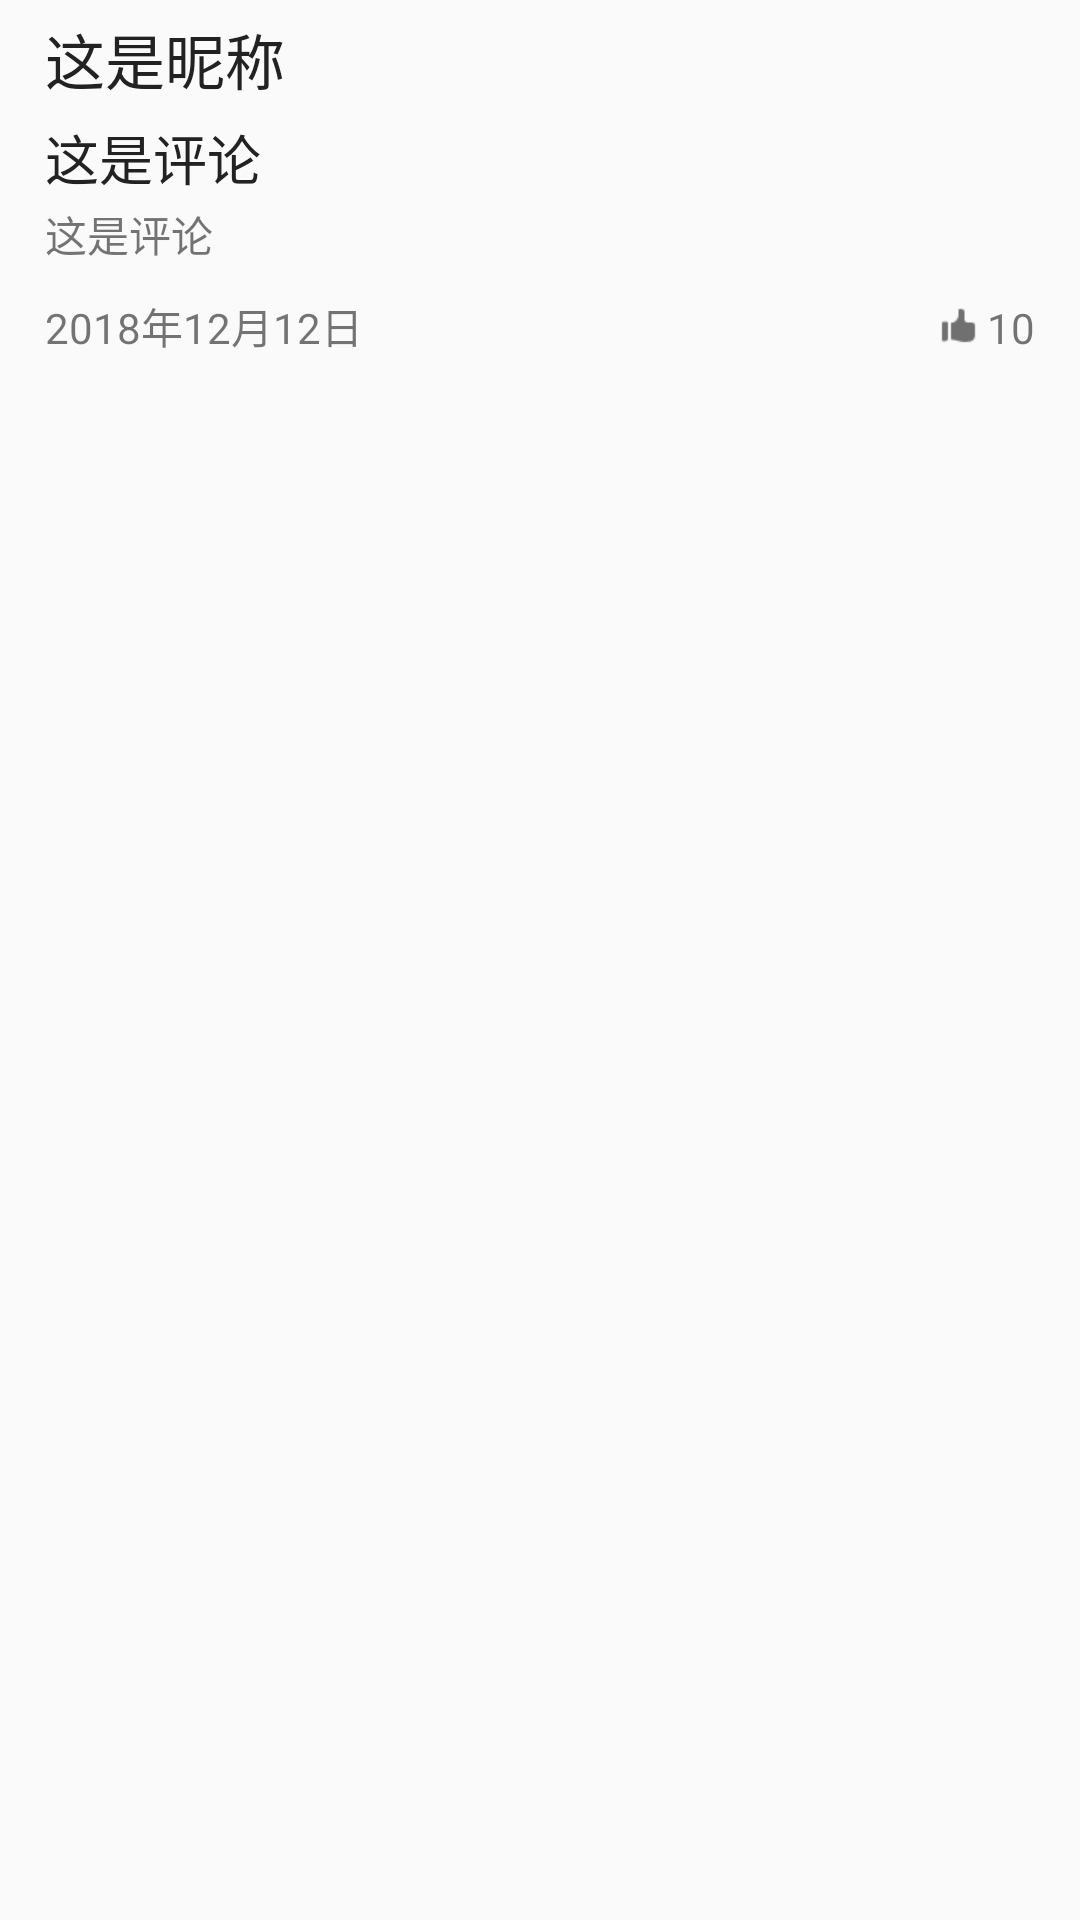

Locate icon controls on the screen. Image size 1080px×1920px, boxes as (x1, y1, x2, y2).
like unselect: (942, 309, 975, 342)
